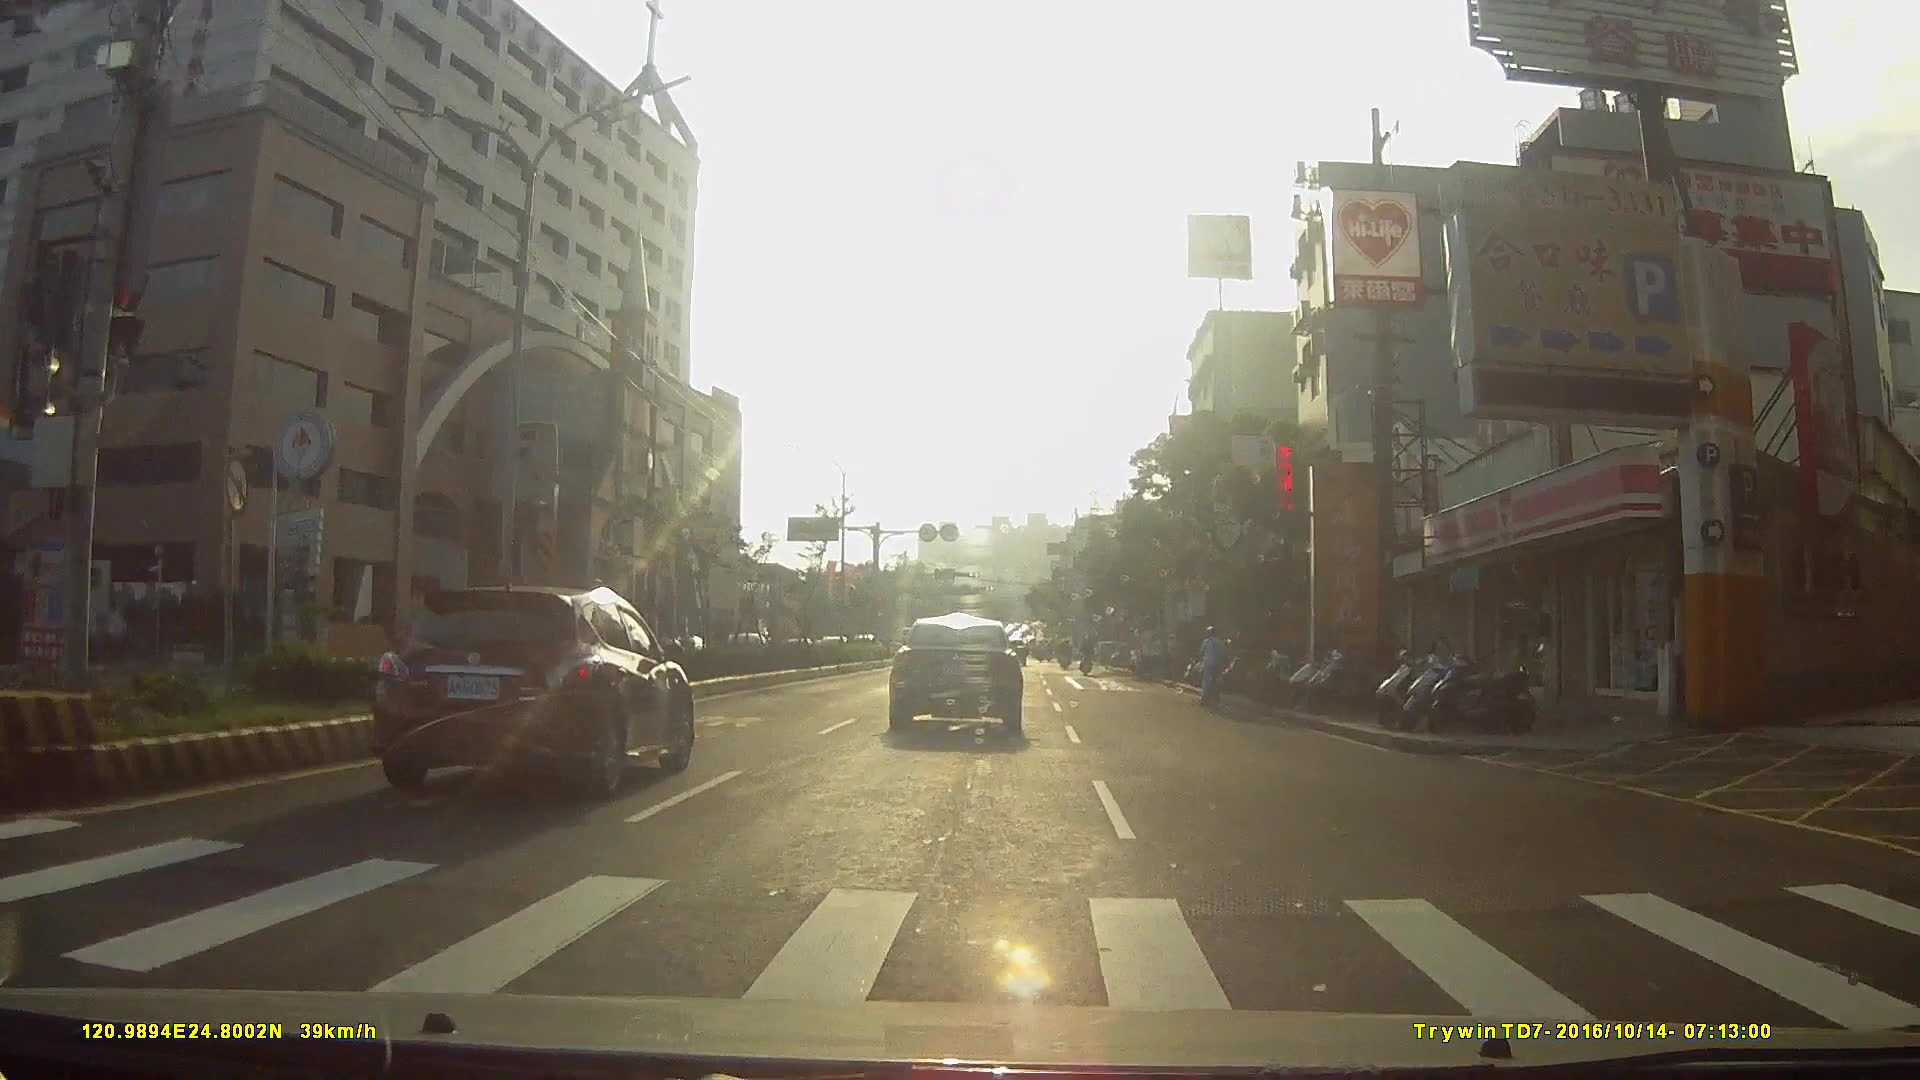rider: (1193, 623, 1230, 706)
vehicle: (364, 572, 704, 805), (888, 613, 1038, 745), (763, 607, 822, 662), (1130, 624, 1181, 677)
